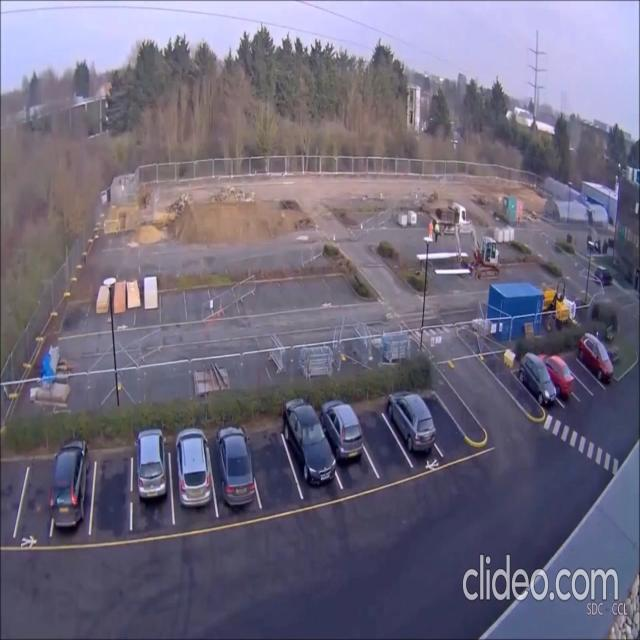empty: (243, 430, 304, 513), (353, 410, 414, 485), (12, 459, 57, 548), (90, 457, 133, 544), (415, 391, 467, 450), (0, 460, 29, 549), (565, 357, 605, 397)
occupied: (279, 404, 329, 484), (389, 382, 438, 455), (174, 432, 213, 518), (515, 359, 559, 425), (56, 443, 87, 532), (221, 425, 253, 502), (136, 437, 166, 508), (545, 336, 576, 400), (326, 401, 359, 461), (583, 328, 612, 391)
